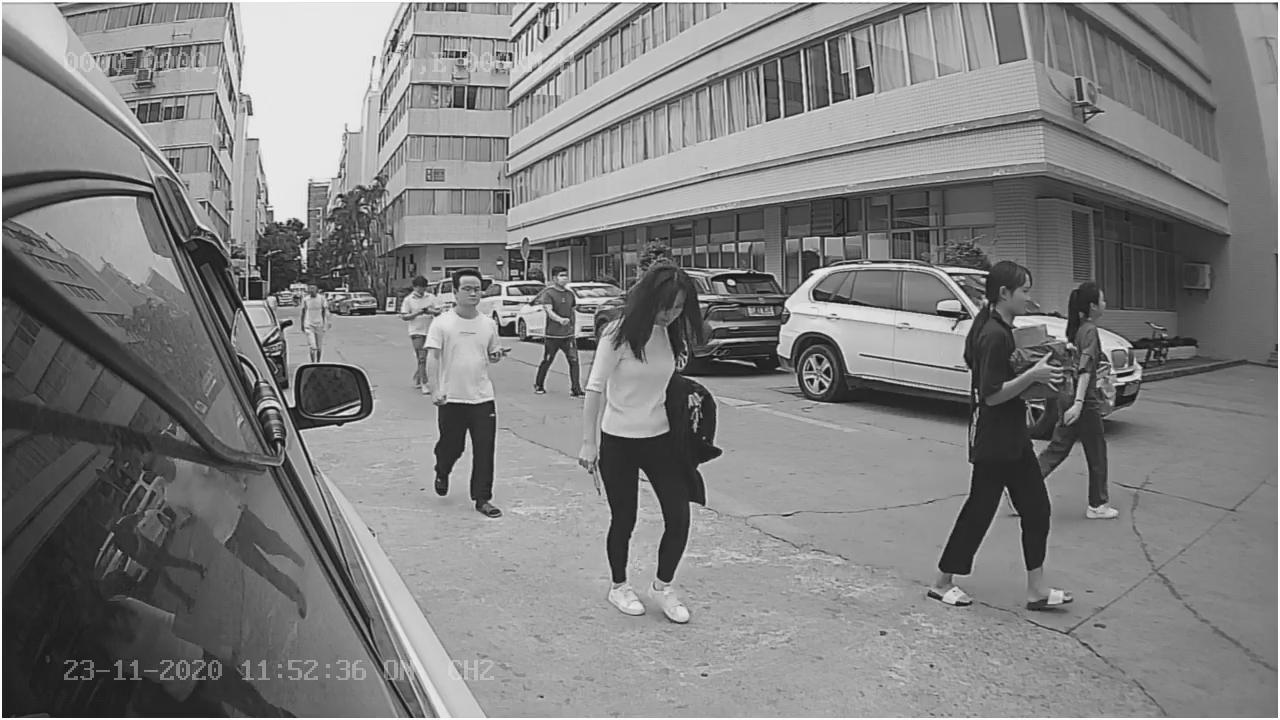person: (936, 262, 1066, 623), (577, 280, 694, 620), (422, 267, 507, 514)
